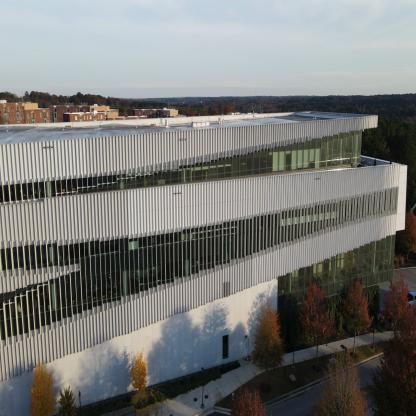Hunt Library: (0, 95, 401, 416)
